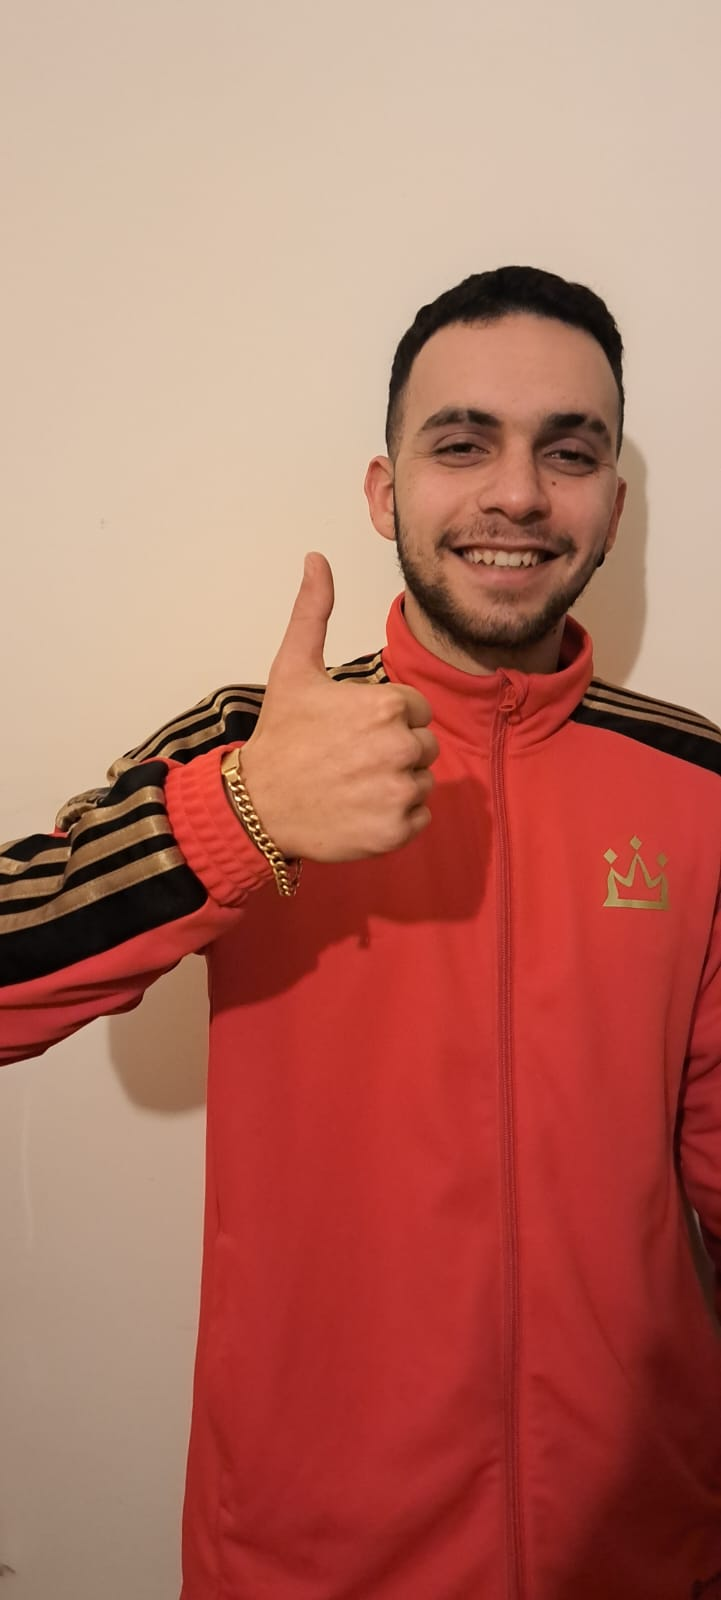okay: (256, 549, 445, 881)
